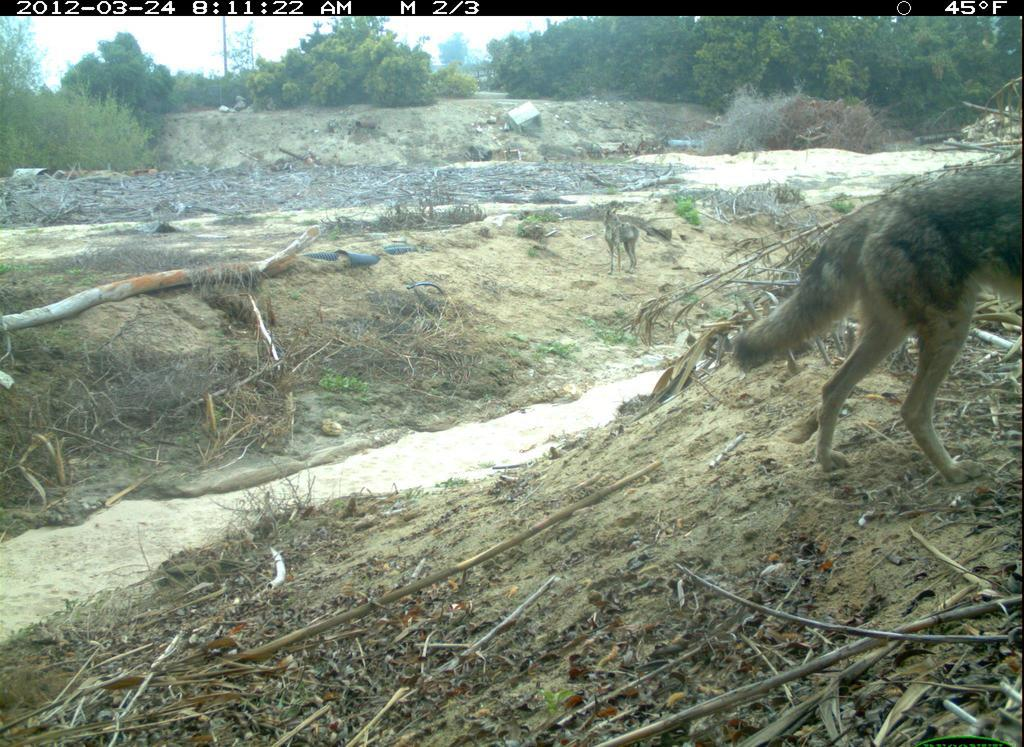coyote: (726, 155, 1023, 497), (592, 185, 651, 283)
